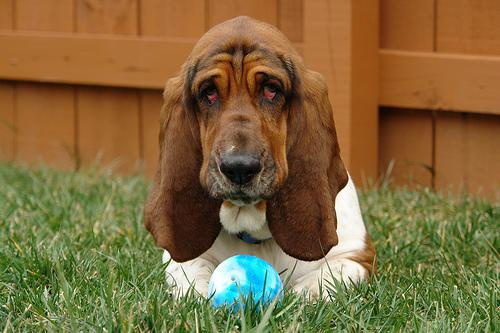dog-basset_hound: (142, 15, 346, 261)
